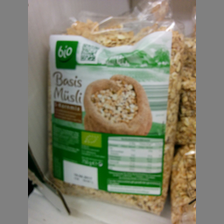cereal: (47, 27, 184, 214)
